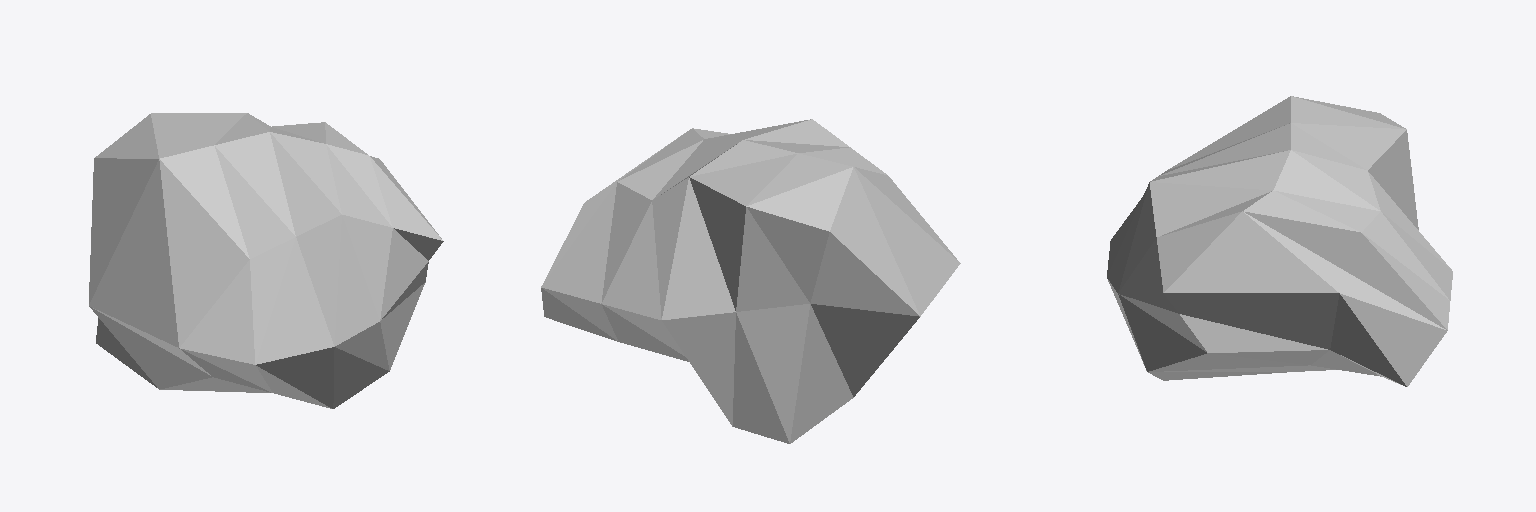
File: acidball.obj
3 views of the same model, side by side, from view 1: azimuth 30°, elevation 25°; view 2: azimuth 150°, elevation 25°; view 3: azimuth 270°, elevation 25° (orthographic).
Visible parts, largest first — view 1: acidball; view 2: acidball; view 3: acidball.
Part boxes in pixels (x1,y1,x2,y2): acidball: (89,113,443,408); acidball: (541,119,960,443); acidball: (1107,96,1452,386).
Size of the model in its own units: 2.9 by 2 by 2.72.